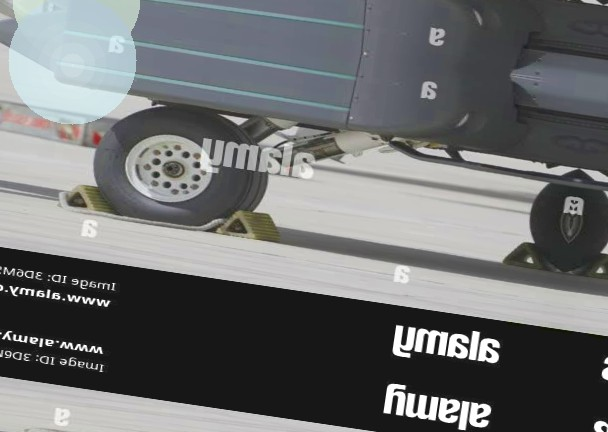chock: (55, 181, 124, 219), (216, 206, 285, 243), (501, 238, 564, 273), (569, 248, 608, 283)
wheel: (88, 95, 277, 234), (521, 176, 577, 270), (566, 182, 608, 276)
